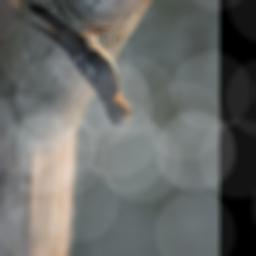Swallow: (5, 0, 145, 134)
